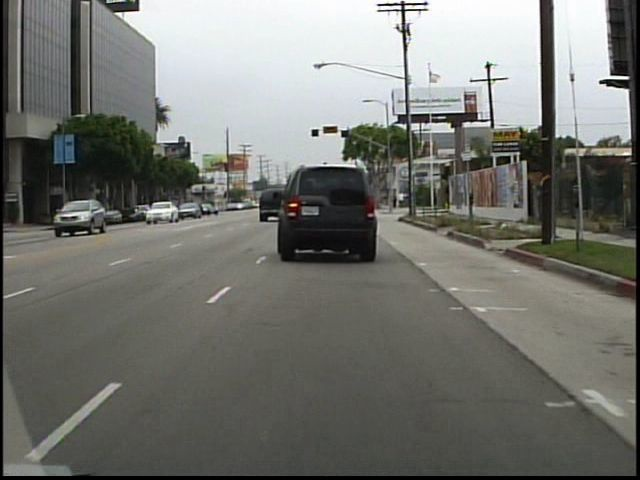person: (390, 189, 398, 211), (399, 187, 406, 212)
